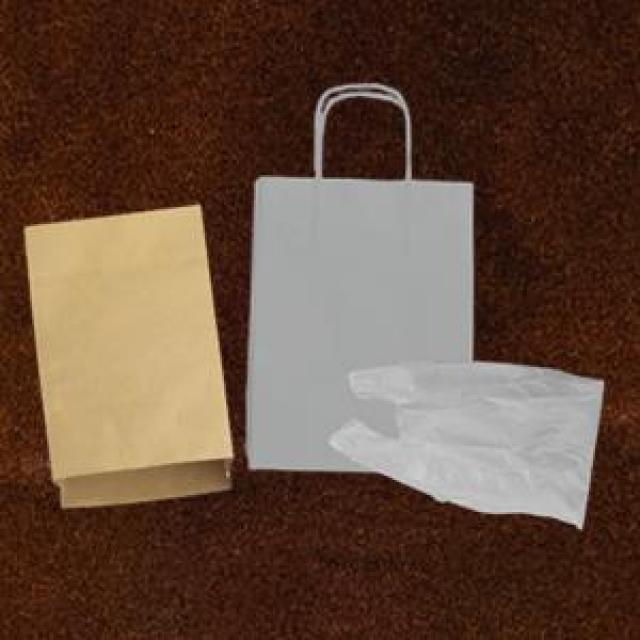paper: (243, 79, 469, 467), (21, 201, 228, 504)
